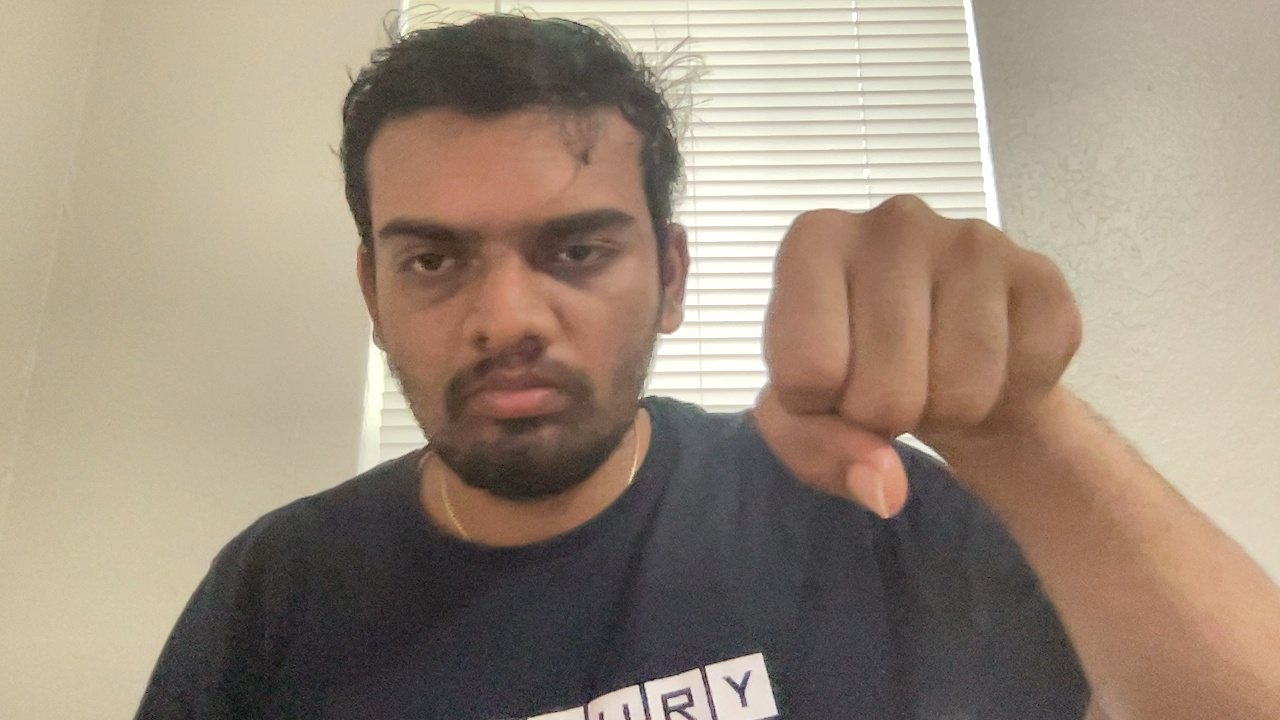yes: (750, 171, 1098, 548)
